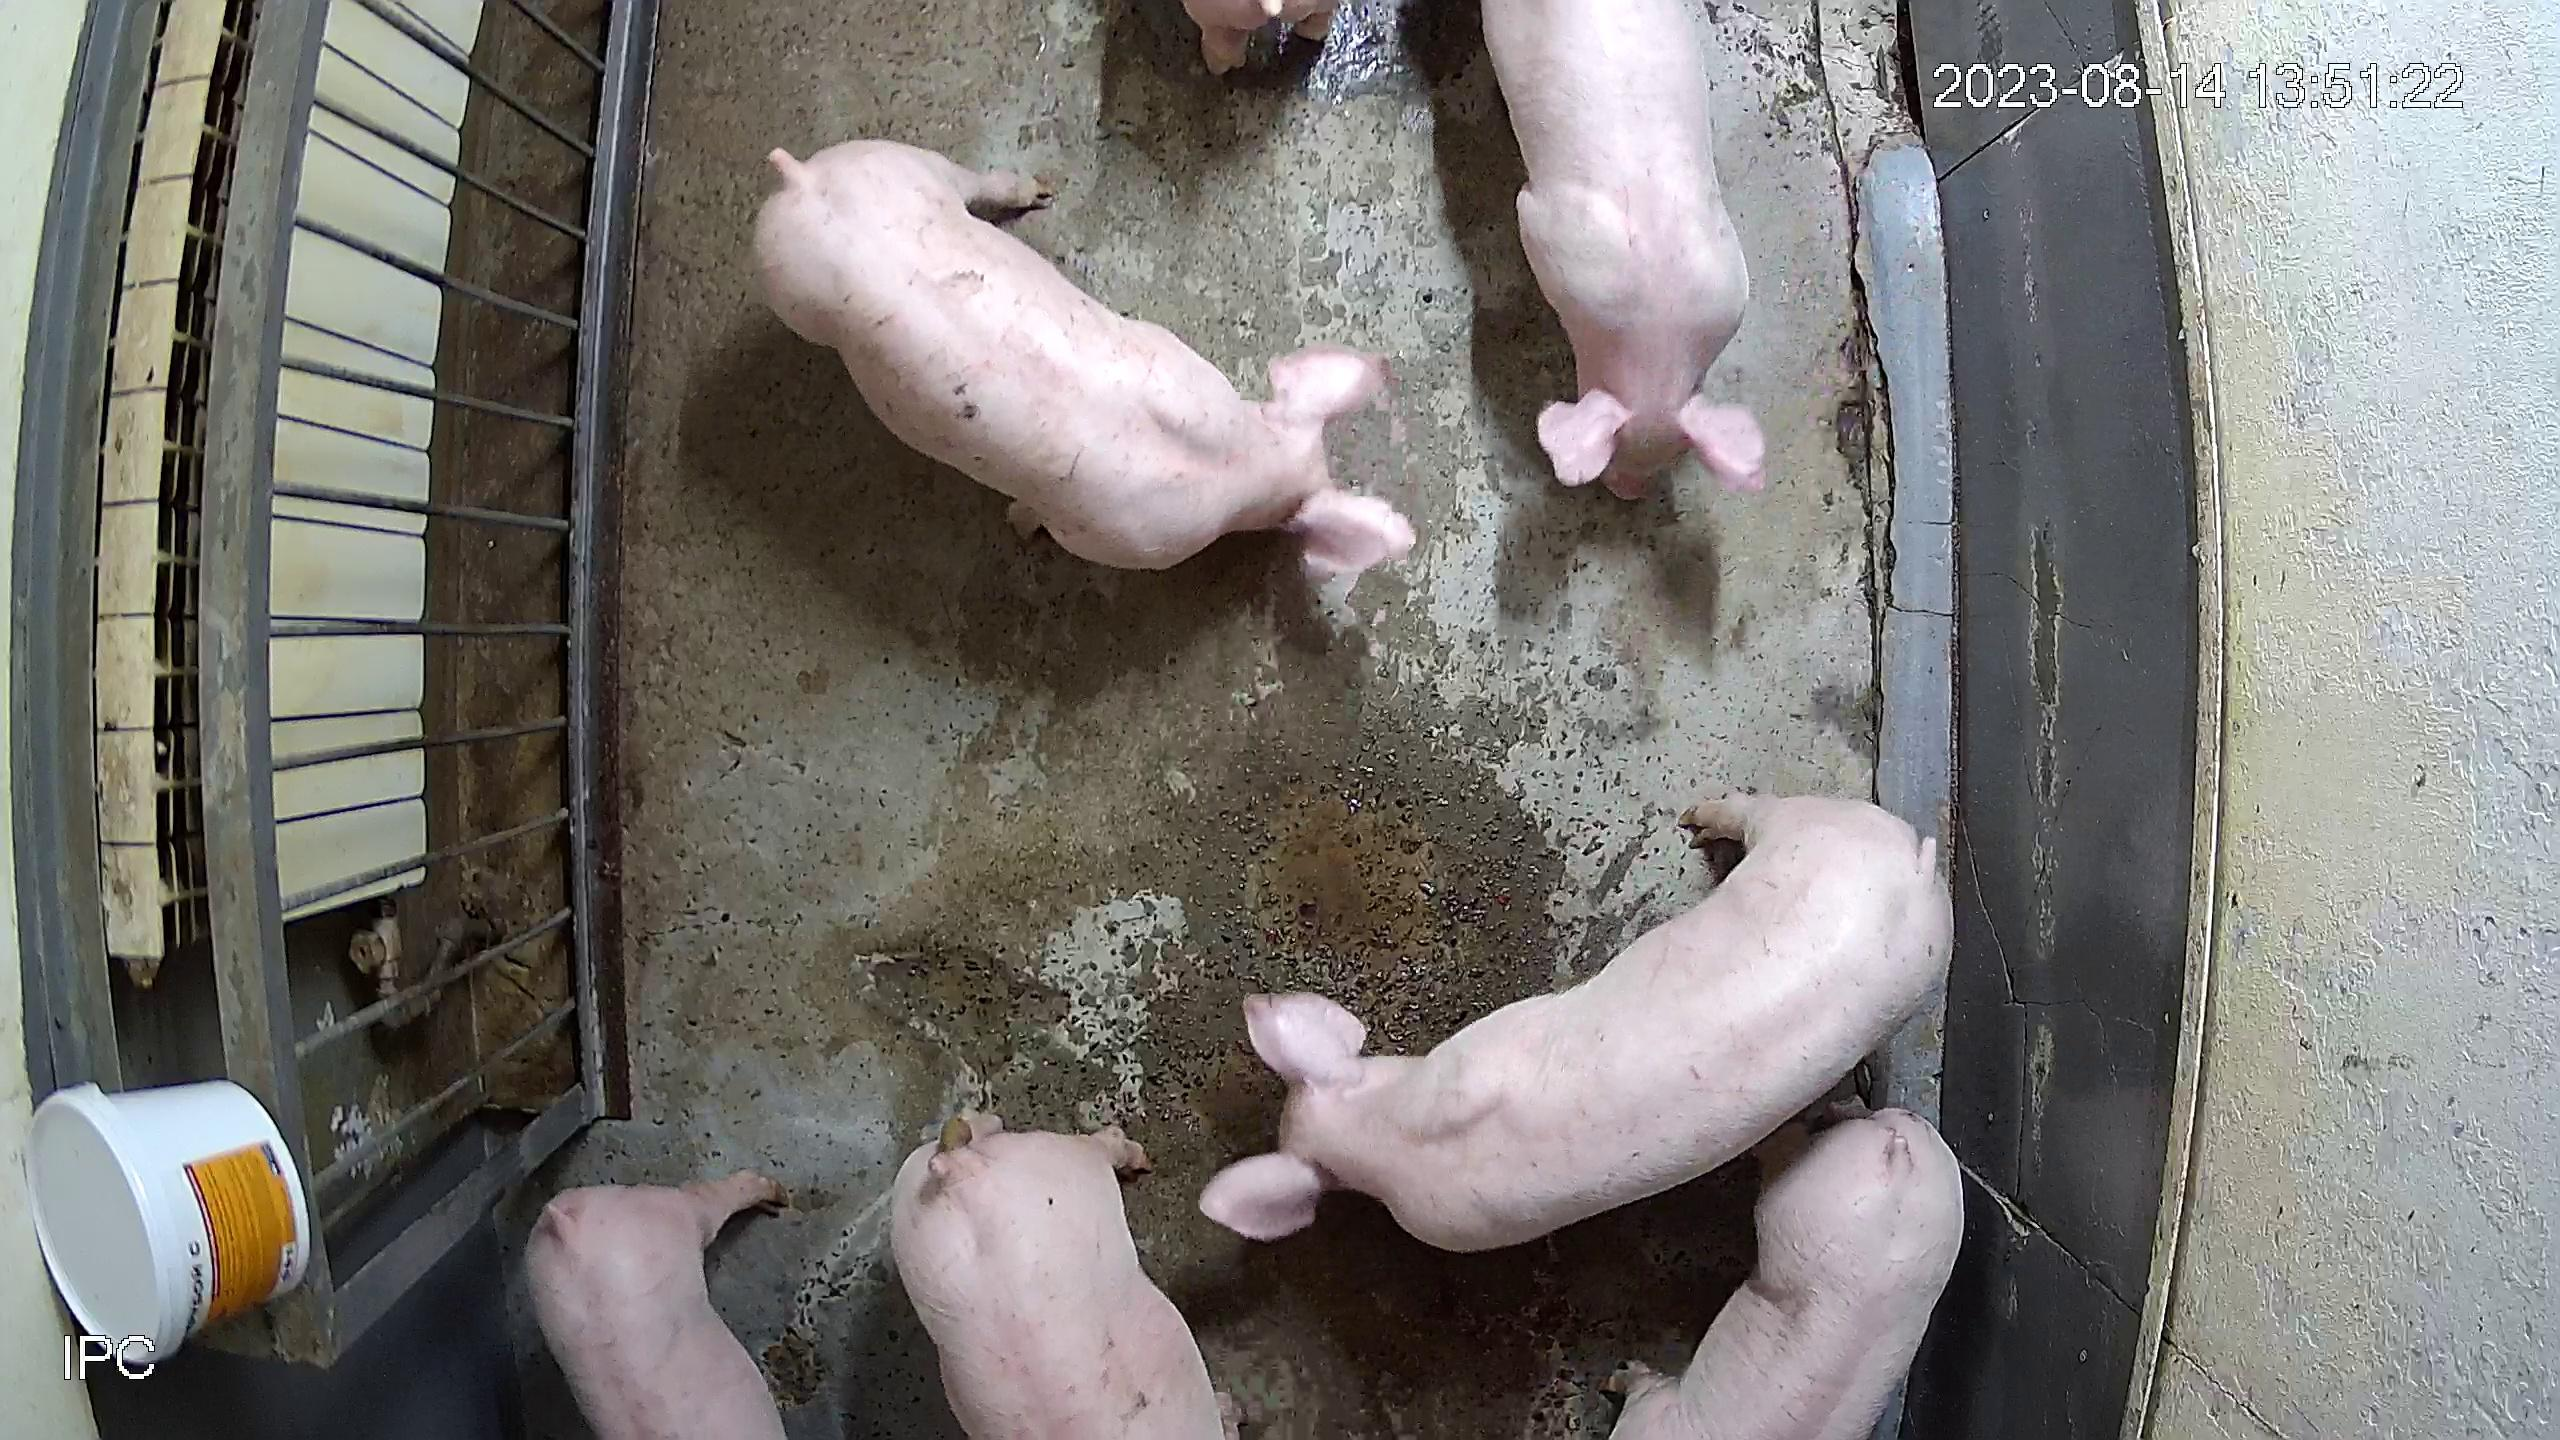Pig: (1204, 791, 1955, 1252), (753, 135, 1415, 580), (1482, 0, 1767, 496), (1614, 1108, 1967, 1440), (891, 1111, 1224, 1440), (526, 1171, 784, 1440), (1183, 0, 1340, 70)
